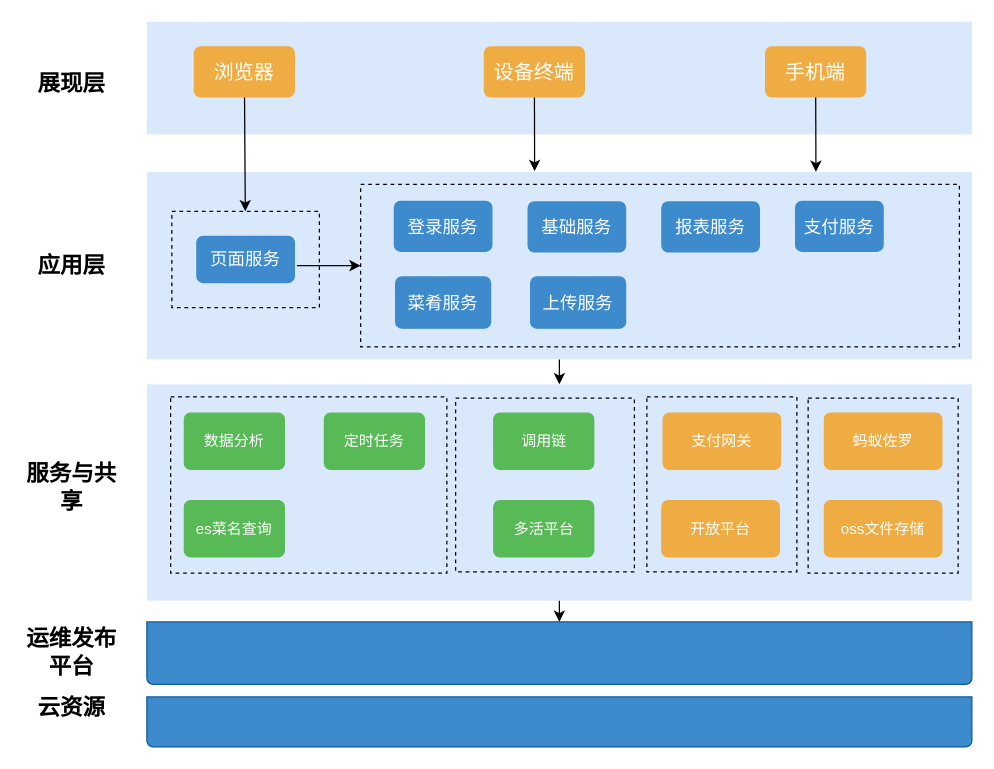
The diagram is 994 pixels wide and 769 high, and some of its shapes have lost their labels. The shapes that lost their labels are listed below. From the top down, each one's centre as x and y in pixels, then its label:
At (559,652): "touchstone灰度发布平台/持续集成管理平台".
At (559,721): "阿里公有云".
